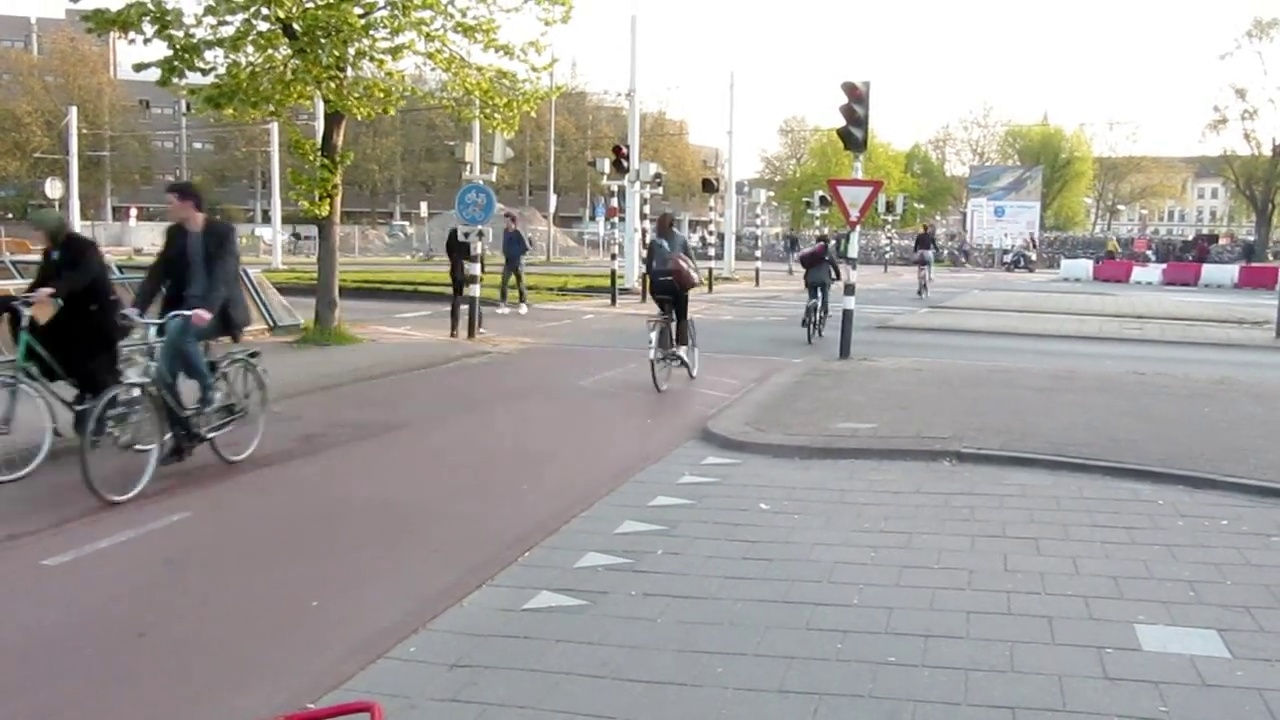cyclist_back: (641, 205, 703, 395), (800, 230, 836, 353), (912, 217, 936, 305)
cyclist_front: (84, 171, 283, 505), (5, 197, 145, 502)
